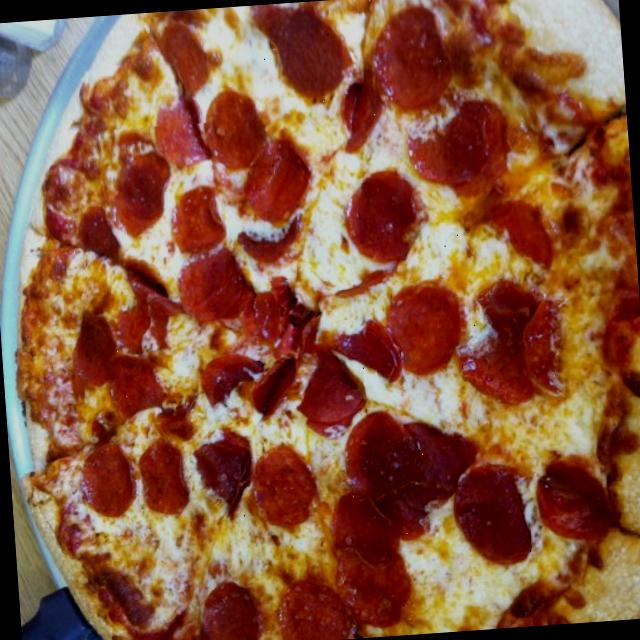pepperoni: (251, 0, 519, 279), (98, 116, 294, 318), (316, 415, 465, 625), (61, 413, 265, 539), (241, 275, 379, 441), (56, 284, 182, 437), (459, 265, 586, 411), (446, 446, 554, 600), (371, 276, 476, 390), (530, 445, 618, 561)
pizza: (16, 0, 640, 640)
